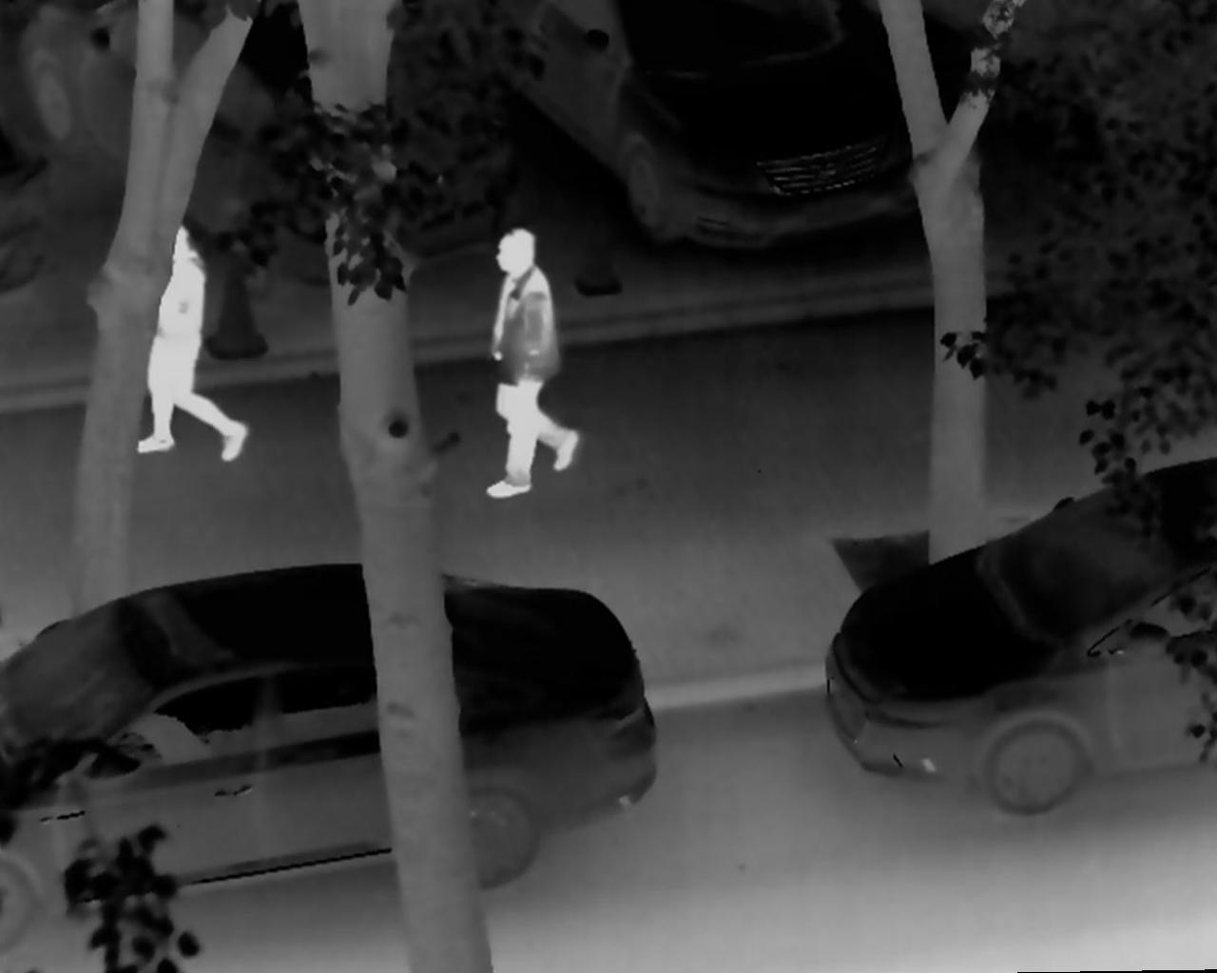person: (133, 200, 251, 466), (479, 223, 580, 504)
